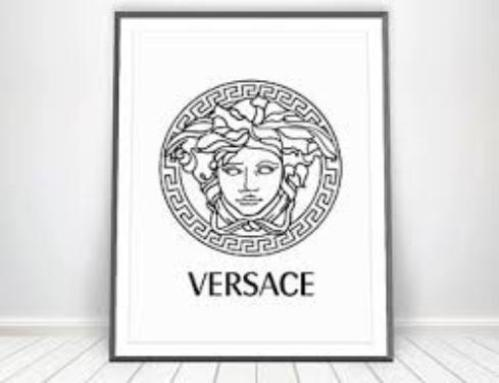VERSACE: (154, 59, 348, 317)
